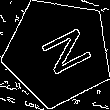N_SW: (26, 23, 90, 81)
